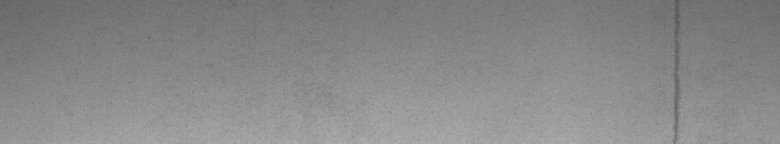hd: (671, 4, 684, 136)
